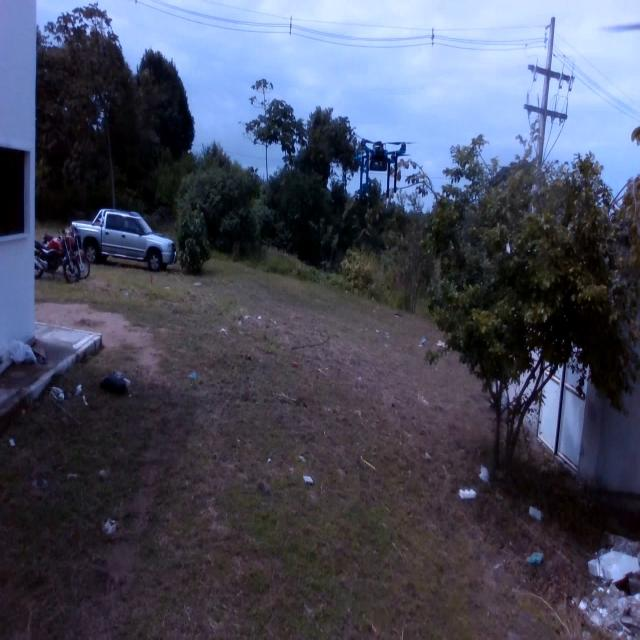-uav-: (342, 117, 418, 216)
